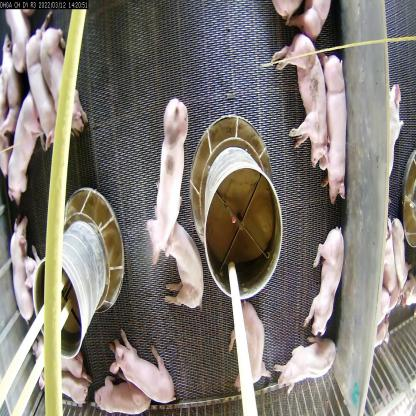Pig: (268, 27, 330, 168), (151, 90, 189, 266), (150, 212, 206, 315), (108, 327, 178, 405), (40, 30, 90, 138), (319, 55, 349, 207), (24, 28, 61, 148), (228, 296, 272, 392), (306, 225, 342, 338), (274, 333, 339, 391), (6, 92, 40, 201), (29, 358, 90, 416), (32, 330, 87, 381), (89, 370, 151, 415), (7, 218, 33, 324), (26, 255, 55, 328)
